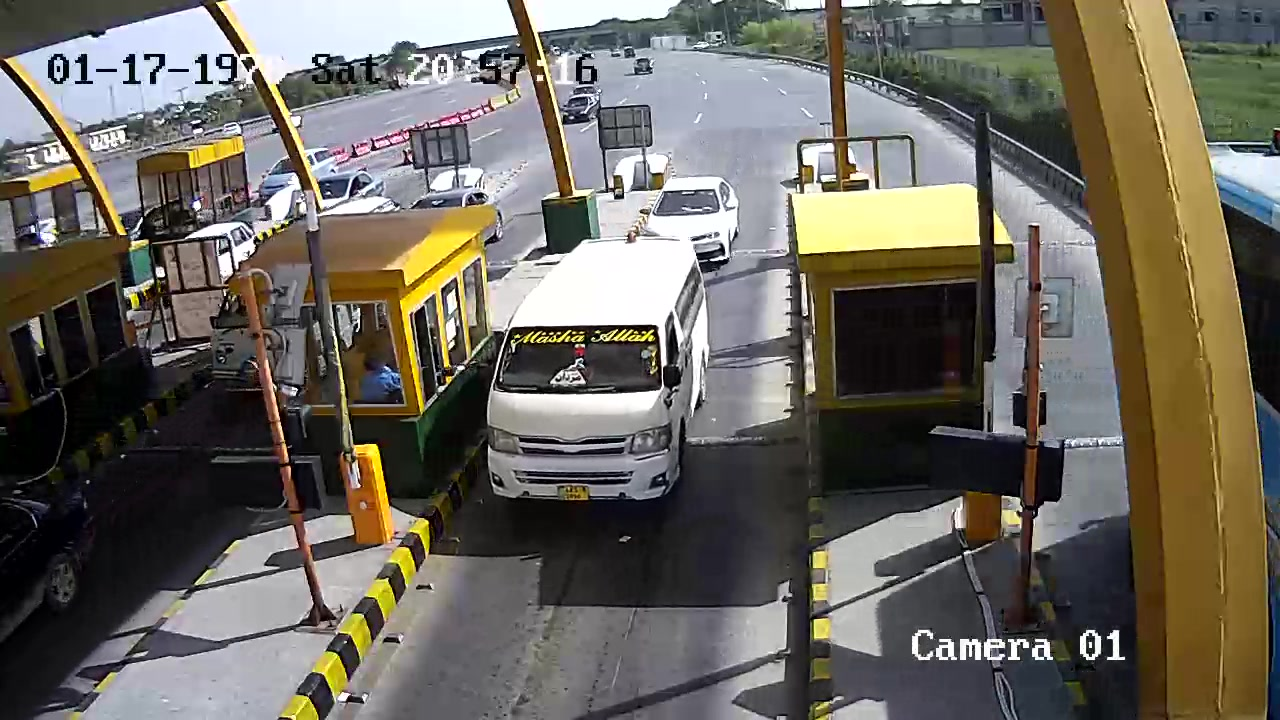F2: (482, 235, 712, 520)
